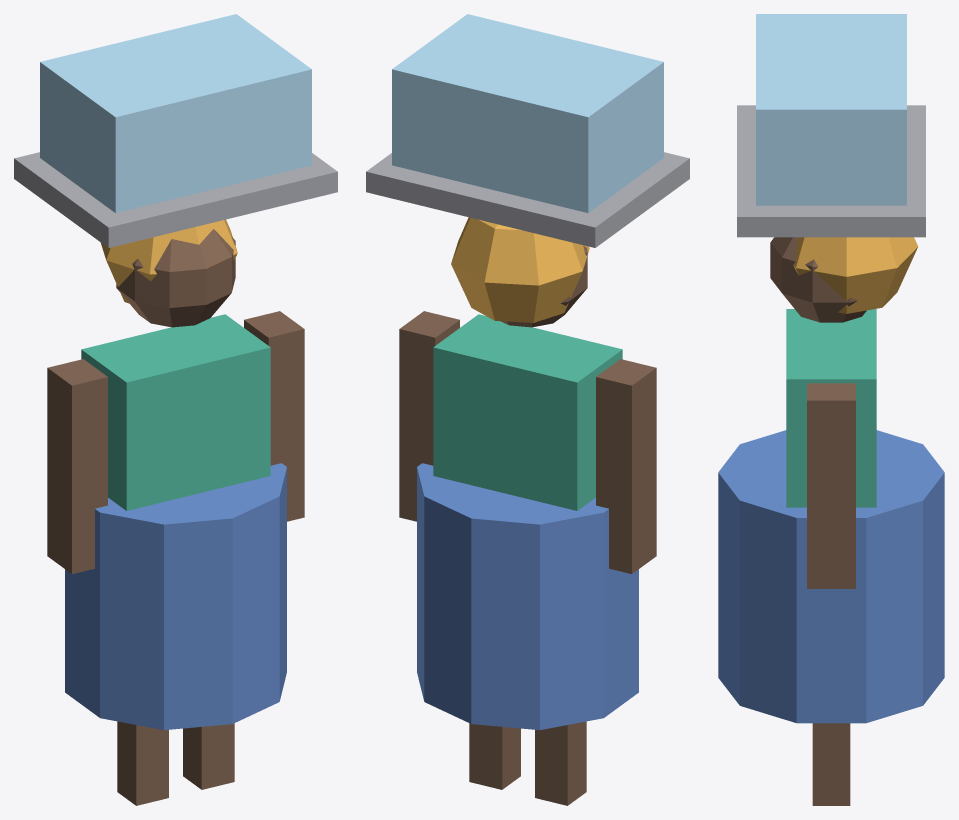
Rendered from CH_Hawker.glb.
3 renders of one model, left to right at view 1: azimuth 30°, elevation 25°; view 2: azimuth 150°, elevation 25°; view 3: azimuth 270°, elevation 25°, orthographic.
Parts seen in each view (by area): view 1: skirt.001, sachets, torso.002, armL.002, tray, head.002, armR.002, legL.002, legR.002, hair.002; view 2: skirt.001, sachets, torso.002, armL.002, tray, hair.002, armR.002, legL.002, legR.002, head.002; view 3: skirt.001, sachets, torso.002, armR.002, tray, hair.002, head.002, legR.002.
Boxes of the visible parts, left/top/right/bottom form: skirt.001: left=65, top=463, right=286, bottom=730; sachets: left=40, top=14, right=311, bottom=213; torso.002: left=81, top=314, right=270, bottom=510; armL.002: left=47, top=359, right=107, bottom=573; tray: left=14, top=152, right=337, bottom=247; head.002: left=116, top=229, right=235, bottom=327; armR.002: left=244, top=311, right=304, bottom=521; legL.002: left=117, top=721, right=168, bottom=805; legR.002: left=183, top=723, right=234, bottom=789; hair.002: left=100, top=219, right=237, bottom=303; skirt.001: left=417, top=463, right=638, bottom=730; sachets: left=392, top=14, right=663, bottom=213; torso.002: left=433, top=314, right=622, bottom=510; armL.002: left=596, top=359, right=656, bottom=573; tray: left=366, top=152, right=689, bottom=247; hair.002: left=451, top=217, right=589, bottom=322; armR.002: left=399, top=311, right=459, bottom=521; legL.002: left=535, top=721, right=586, bottom=805; legR.002: left=469, top=723, right=520, bottom=789; head.002: left=501, top=246, right=587, bottom=327; skirt.001: left=718, top=430, right=944, bottom=723; sachets: left=756, top=14, right=906, bottom=205; torso.002: left=786, top=309, right=876, bottom=507; armR.002: left=807, top=383, right=855, bottom=588; tray: left=737, top=105, right=925, bottom=237; hair.002: left=793, top=237, right=918, bottom=313; head.002: left=770, top=237, right=866, bottom=322; legR.002: left=812, top=723, right=850, bottom=805.
Size of the model in its own units: 0.71 by 2.11 by 0.6.
